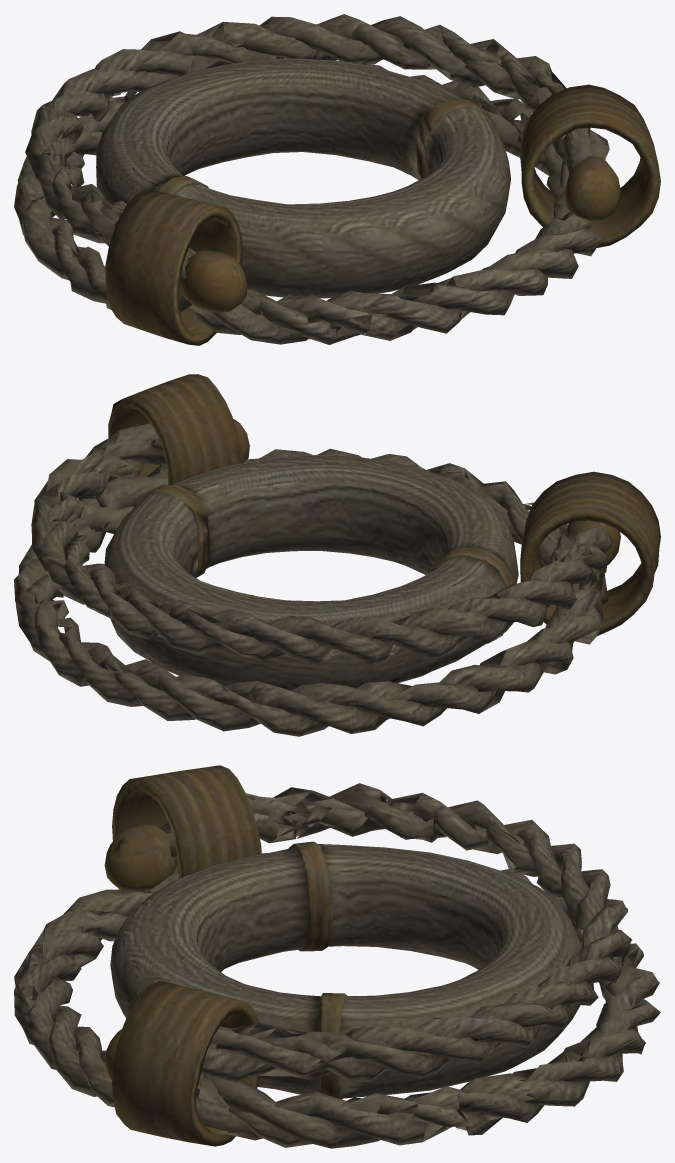
File: ring.glb
The picture shows the model from 3 angles, top to bottom: view 1: azimuth 30°, elevation 25°; view 2: azimuth 150°, elevation 25°; view 3: azimuth 270°, elevation 25°; orthographic projection. The views are drawn at different scales.
Visible parts, largest first — view 1: midway-fit; view 2: midway-fit; view 3: midway-fit.
Boxes of the visible parts, <box> form: midway-fit: <box>14,14,660,345</box>; midway-fit: <box>14,374,660,736</box>; midway-fit: <box>14,765,660,1148</box>.
Size of the model in its own units: 1 by 0.2337 by 0.9492.
Materials: 1 (1 with a texture image).
